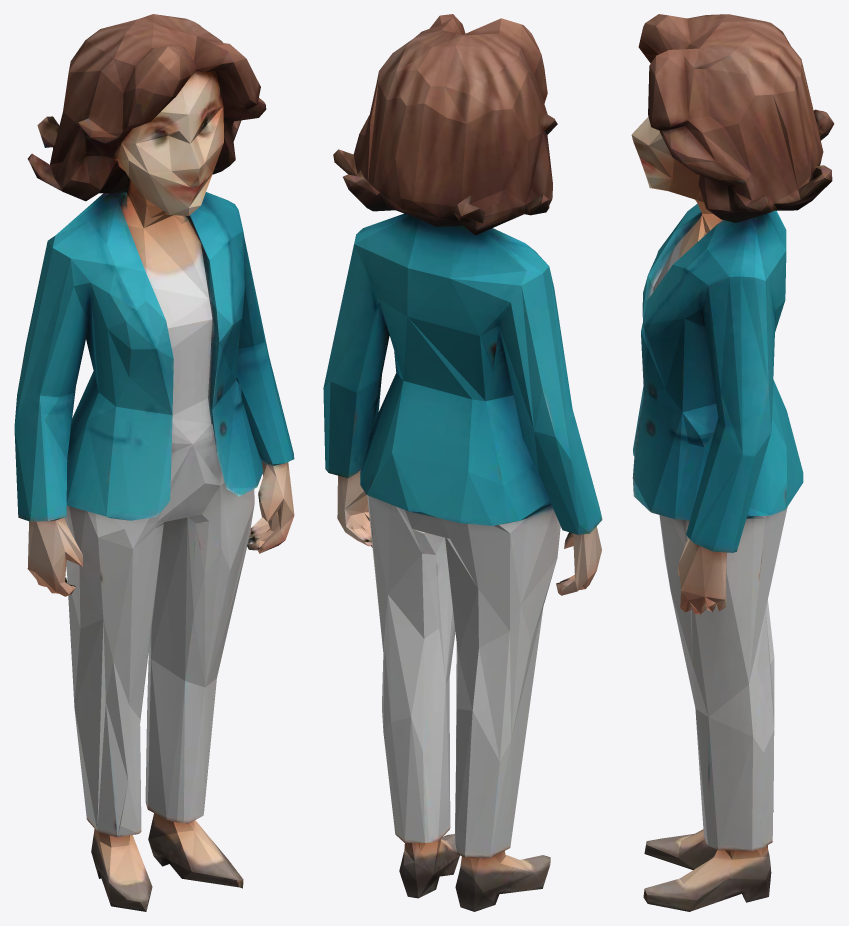
File: citizen-e.glb
3 renders of one model, left to right at view 1: azimuth 30°, elevation 25°; view 2: azimuth 150°, elevation 25°; view 3: azimuth 270°, elevation 25°, orthographic.
Parts seen in each view (by area): view 1: geometry_0; view 2: geometry_0; view 3: geometry_0.
Boxes of the visible parts, box(x1,y1,x2,y2) form: geometry_0: box(14, 14, 294, 911); geometry_0: box(323, 14, 602, 911); geometry_0: box(631, 14, 834, 911).
Size of the model in its own units: 0.3272 by 0.9978 by 0.2134.
Materials: 1 (1 with a texture image).
